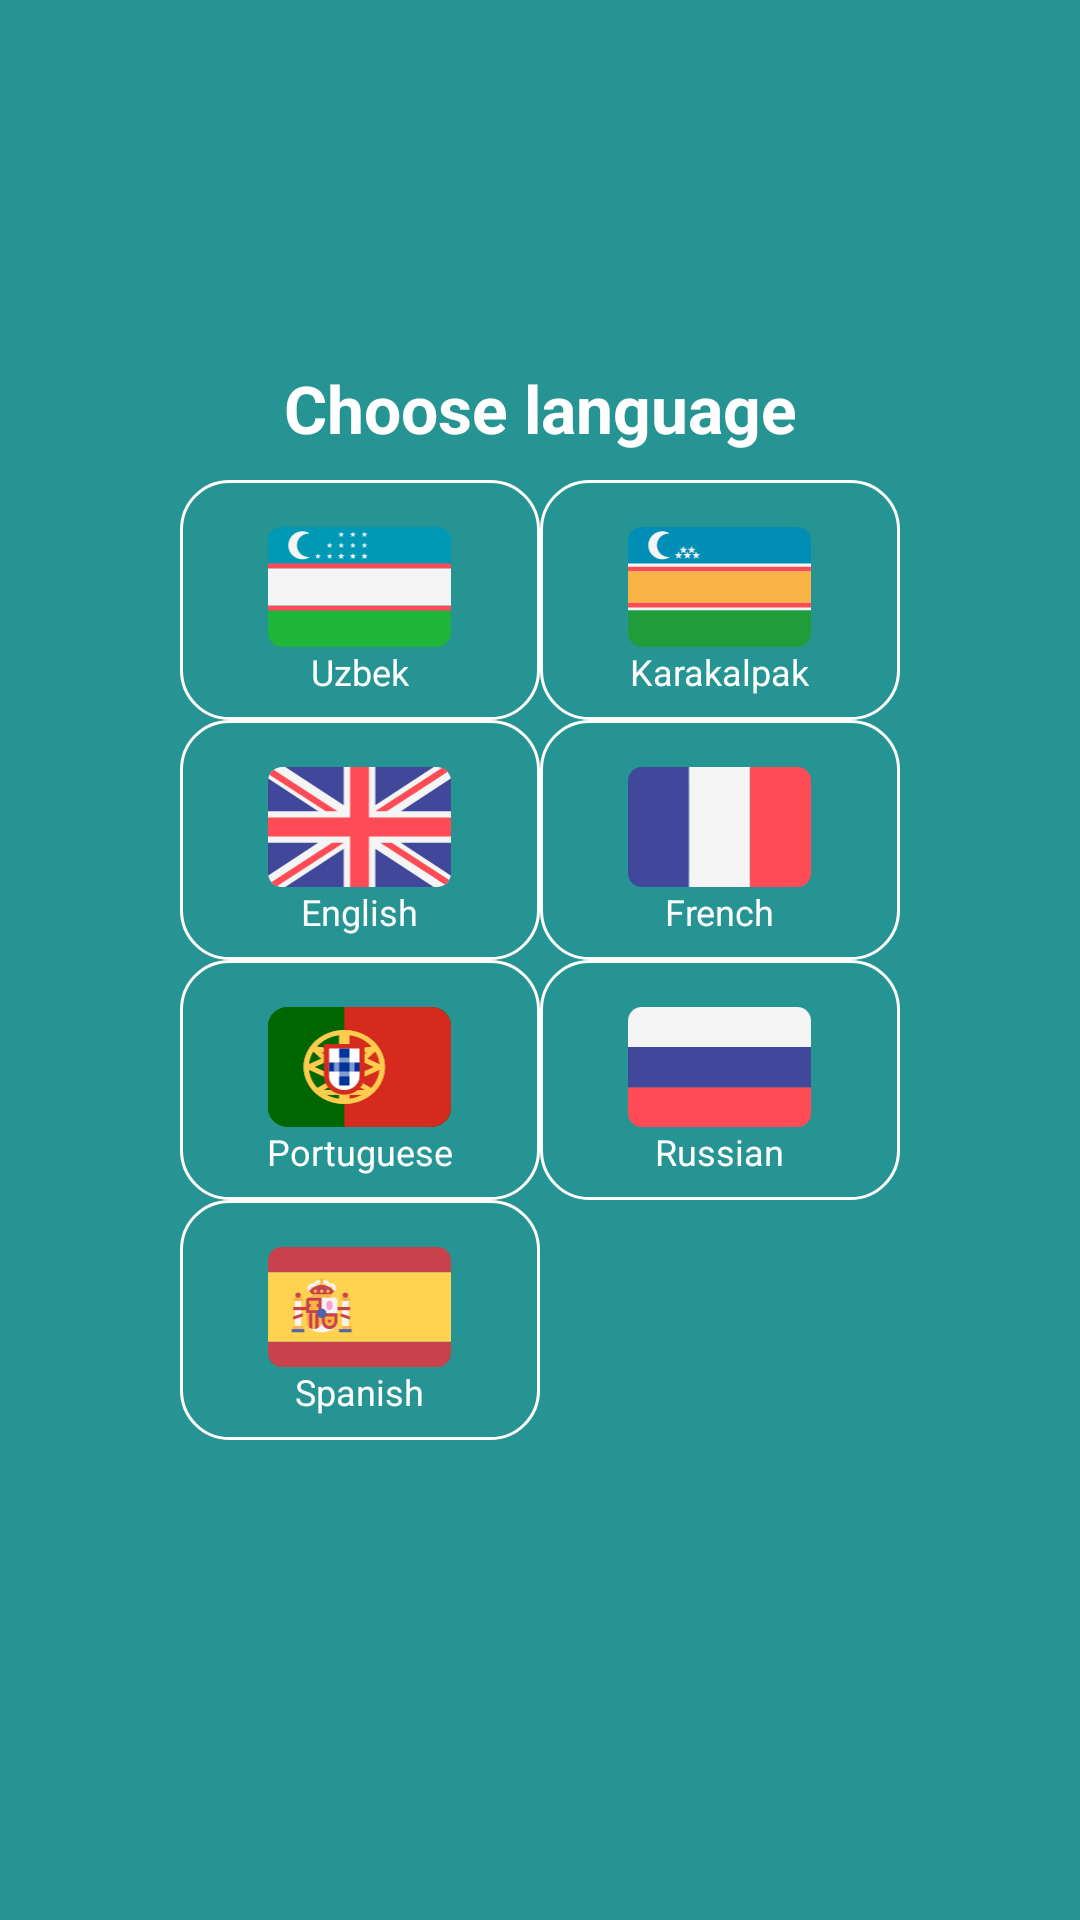

Icons on this 1080 × 1920 Android screen, each with its box as region(x1, y1, x2, y2):
flag france: region(628, 767, 811, 887)
flag karakalpagistan: region(628, 527, 811, 647)
flag portugal: region(268, 1007, 451, 1127)
flag russia: region(628, 1007, 811, 1127)
flag spain: region(268, 1247, 451, 1367)
flag uk: region(268, 767, 451, 887)
